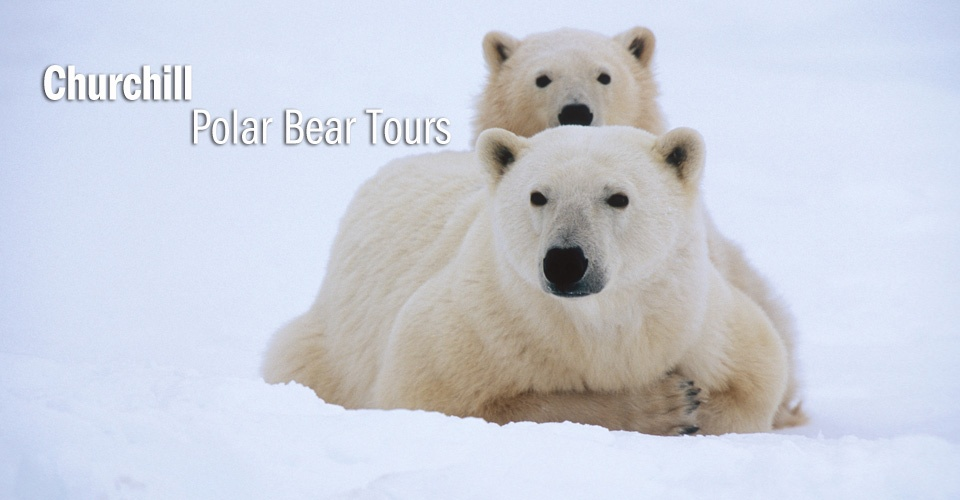Polar Bear: (445, 116, 789, 434)
